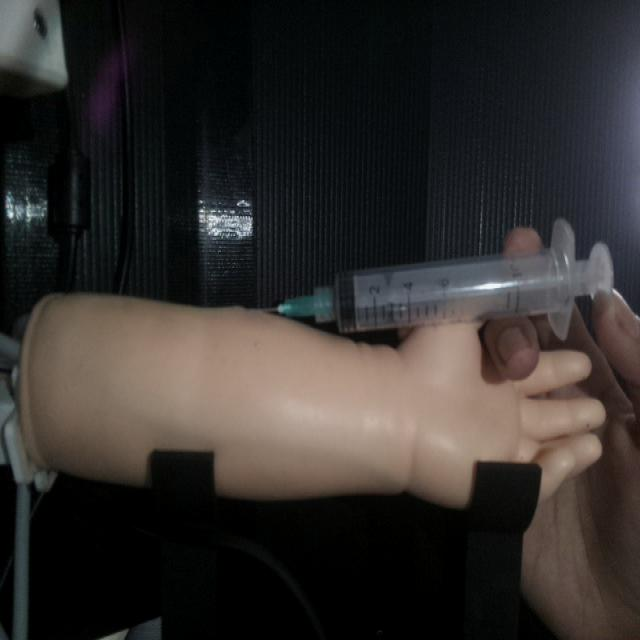Below 15 degrees: (261, 215, 616, 340)
